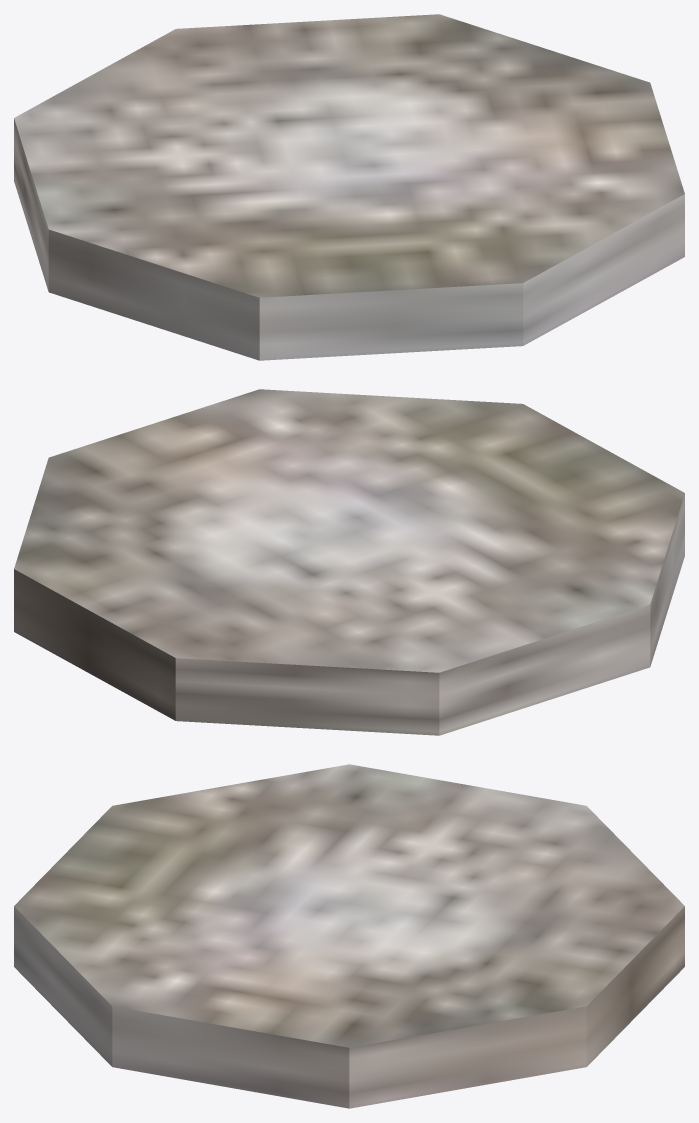
Rendered from silver coin.fbx.
3 views of the same model, one above another, from view 1: azimuth 30°, elevation 25°; view 2: azimuth 150°, elevation 25°; view 3: azimuth 270°, elevation 25° (orthographic). The views are drawn at different scales.
Parts seen in each view (by area): view 1: Cylinder; view 2: Cylinder; view 3: Cylinder.
Part boxes in pixels (x1,y1,x2,y2): Cylinder: [14, 14, 684, 360]; Cylinder: [14, 389, 684, 735]; Cylinder: [14, 764, 684, 1108].
Bounding box in the file's own units: 42.12 × 4.21 × 42.12.
